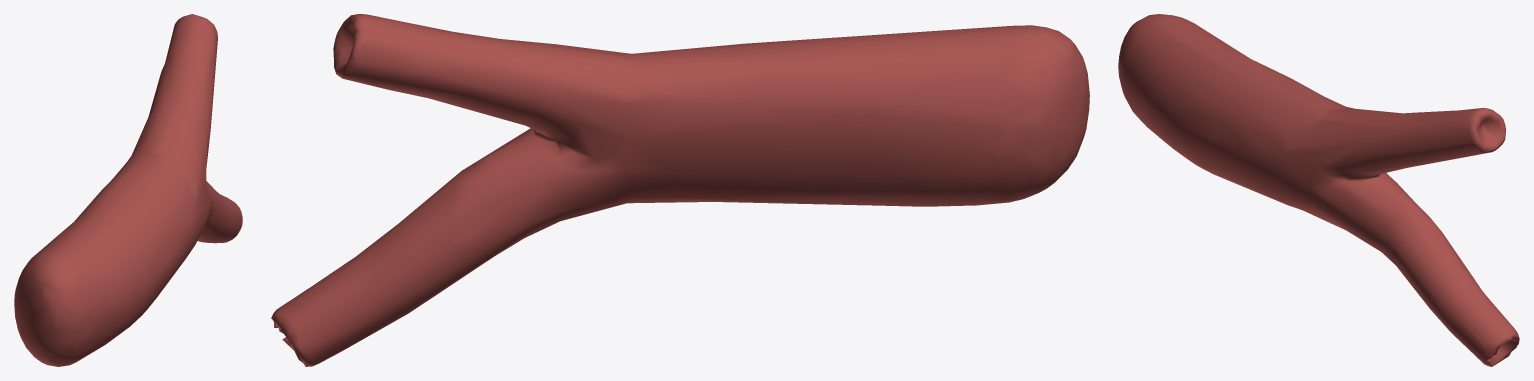
The model's file is FMA14753.glb.
The picture shows the model from 3 angles, left to right: view 1: azimuth 30°, elevation 25°; view 2: azimuth 150°, elevation 25°; view 3: azimuth 270°, elevation 25°; orthographic projection. The views are drawn at different scales.
Parts seen in each view (by area): view 1: FMA14753; view 2: FMA14753; view 3: FMA14753.
Boxes of the visible parts, box(x1,y1,x2,y2) form: FMA14753: box(14, 14, 242, 366); FMA14753: box(271, 14, 1089, 366); FMA14753: box(1118, 14, 1519, 366).
Bounding box in the file's own units: 0.0466 × 0.028 × 0.0424.
